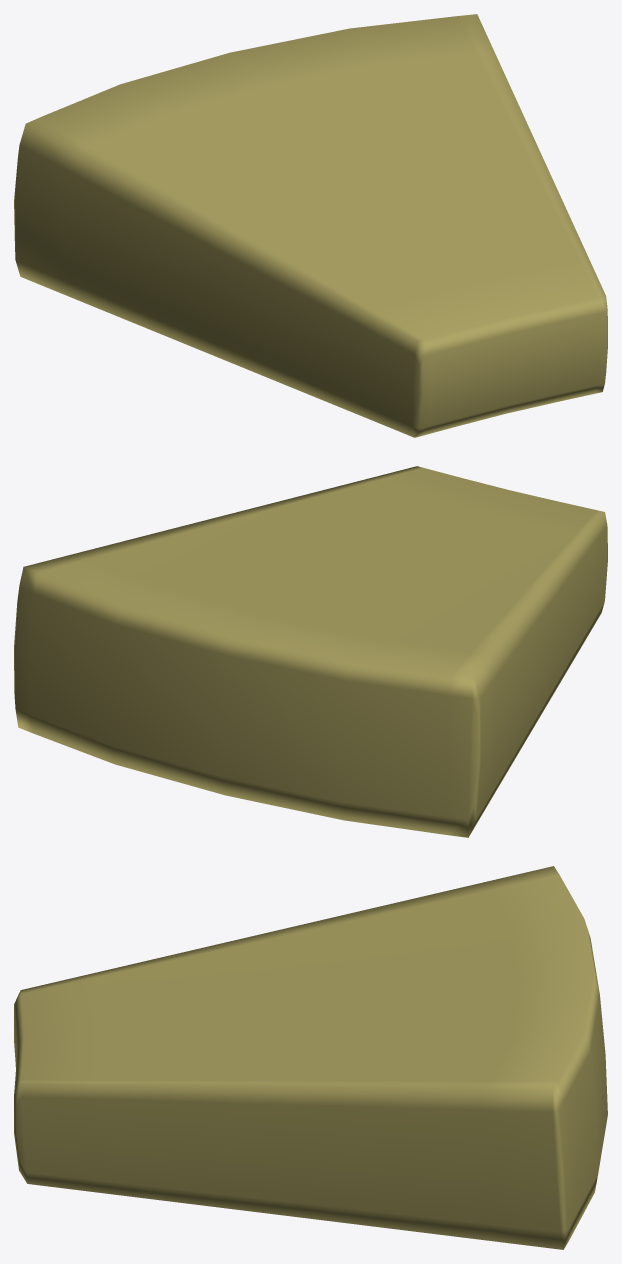
File: pinapplepiece.fbx
The picture shows the model from 3 angles, top to bottom: view 1: azimuth 30°, elevation 25°; view 2: azimuth 150°, elevation 25°; view 3: azimuth 270°, elevation 25°; orthographic projection.
Parts seen in each view (by area): view 1: pinapplepiece; view 2: pinapplepiece; view 3: pinapplepiece.
Part boxes in pixels (x1,y1,x2,y2): pinapplepiece: [14, 14, 607, 437]; pinapplepiece: [14, 466, 607, 837]; pinapplepiece: [14, 866, 607, 1249].
Size of the model in its own units: 348 by 114 by 377.
